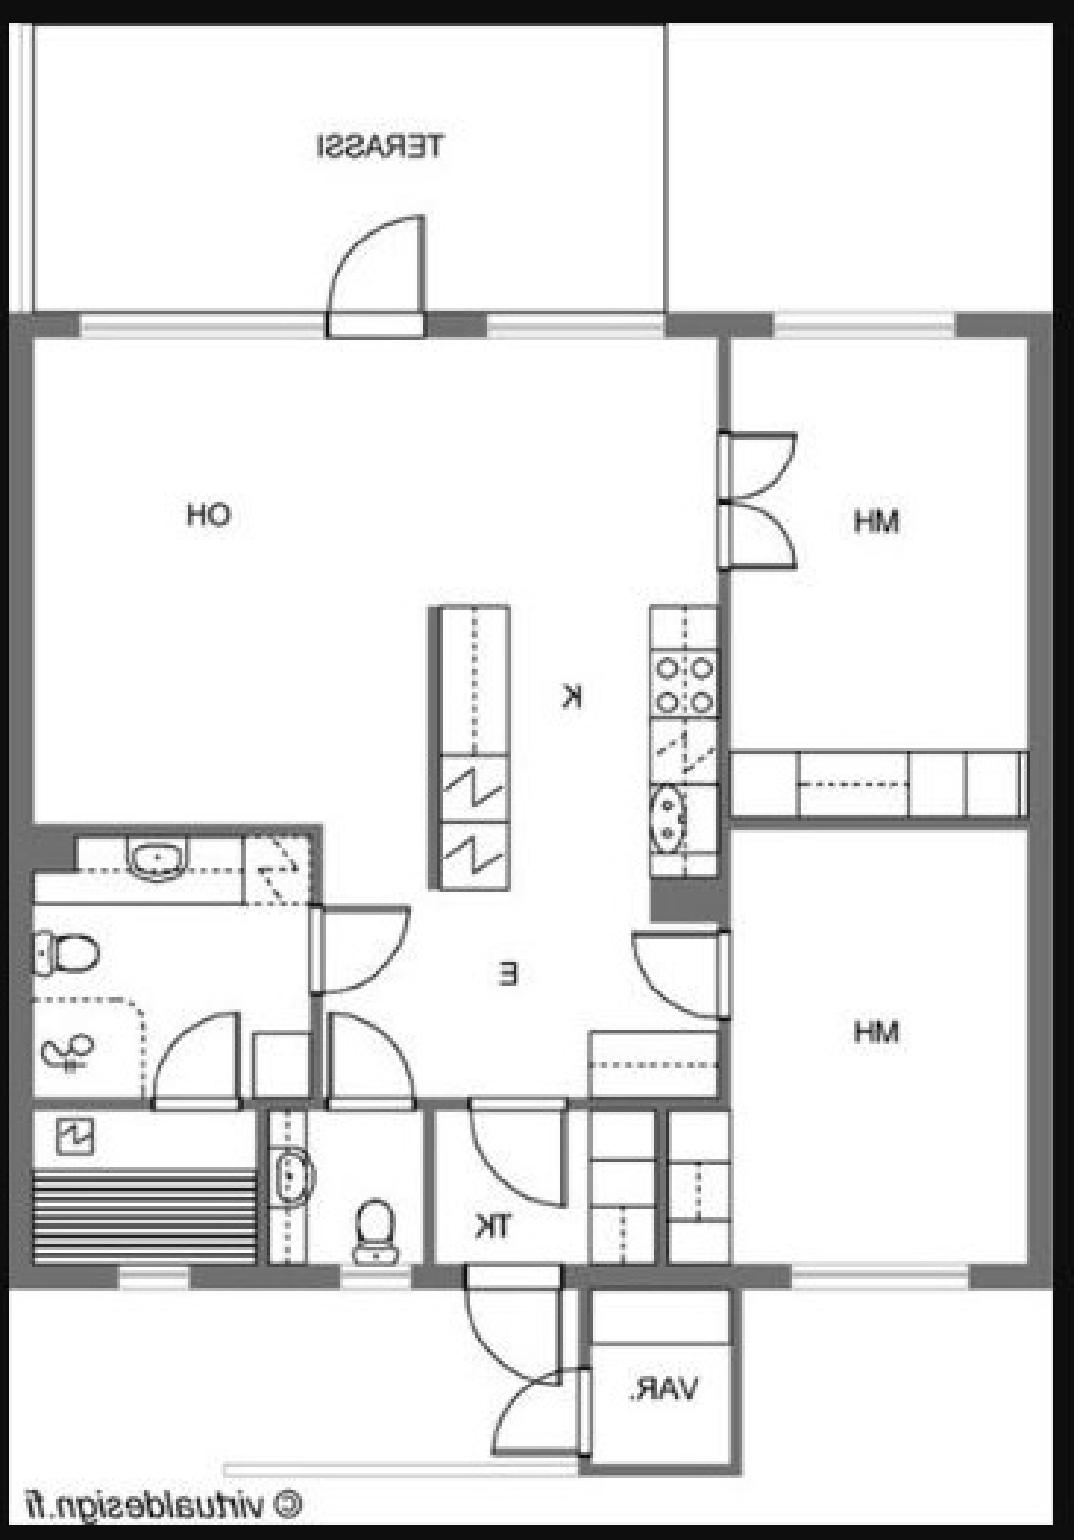door: (707, 425, 807, 592), (321, 213, 421, 355), (467, 1258, 576, 1384), (474, 1089, 579, 1215), (477, 1362, 607, 1451), (328, 995, 418, 1115), (620, 928, 738, 1015), (302, 905, 405, 999), (149, 1008, 241, 1104)
window: (787, 1264, 961, 1299), (490, 303, 656, 334), (95, 310, 321, 330), (762, 308, 941, 330), (125, 1267, 184, 1294), (331, 1266, 398, 1290)
zone: (35, 334, 715, 1099), (5, 1279, 1066, 1529), (18, 18, 667, 302), (738, 335, 1021, 814), (669, 23, 1053, 310), (23, 817, 319, 1106), (35, 1108, 254, 1253), (431, 1108, 646, 1256), (577, 1285, 730, 1456), (269, 1102, 421, 1249)
